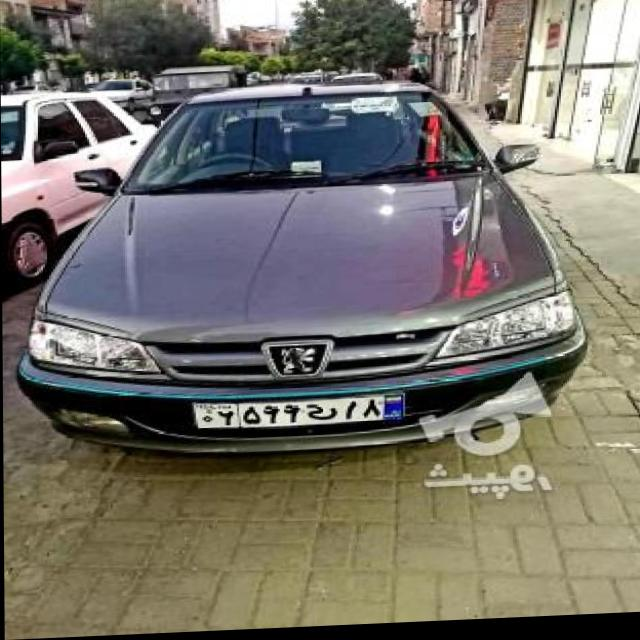licence: (191, 393, 411, 432)
